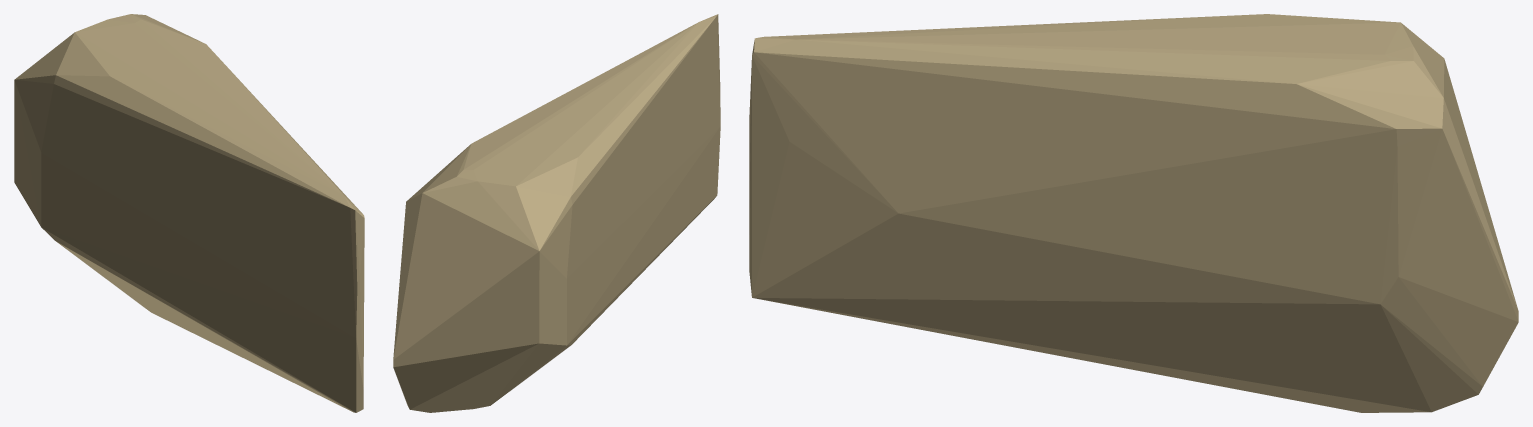
The model's file is construction_firstAidPoint_trolley_a01.glb.
3 renders of one model, left to right at view 1: azimuth 30°, elevation 25°; view 2: azimuth 150°, elevation 25°; view 3: azimuth 270°, elevation 25°, orthographic. The views are drawn at different scales.
Parts seen in each view (by area): view 1: geometry_0; view 2: geometry_0; view 3: geometry_0.
Boxes of the visible parts, box(x1,y1,x2,y2) form: geometry_0: box(14, 14, 364, 412); geometry_0: box(393, 14, 720, 412); geometry_0: box(749, 14, 1518, 412).
Size of the model in its own units: 0.1414 by 0.244 by 0.48.
